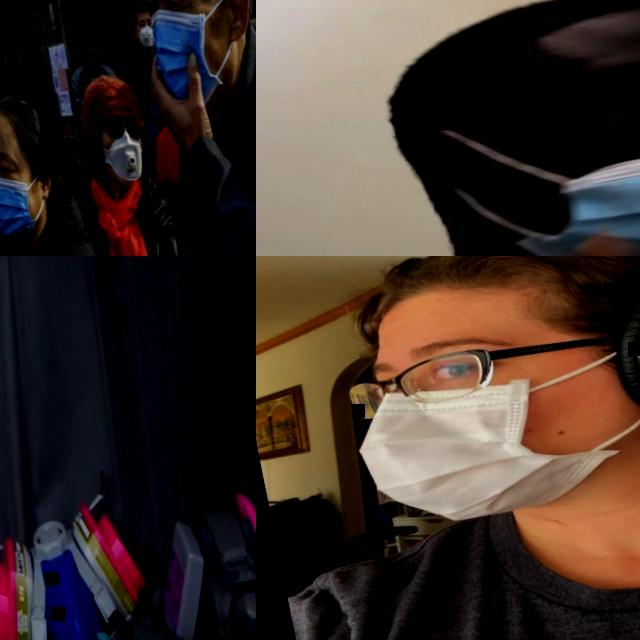mask: (346, 345, 640, 546), (401, 72, 640, 256), (0, 491, 163, 640), (138, 479, 256, 640), (144, 2, 228, 120), (0, 168, 41, 251), (102, 130, 150, 192), (136, 25, 158, 52), (86, 52, 103, 71)
no_helmet: (363, 256, 640, 366), (385, 0, 640, 94), (74, 70, 144, 136), (0, 92, 51, 165), (80, 22, 104, 46), (128, 0, 150, 17), (250, 14, 256, 55)
no_vest: (294, 447, 640, 640), (127, 58, 256, 256), (64, 173, 214, 256), (130, 62, 162, 111)
person: (256, 256, 640, 640), (256, 0, 640, 256), (0, 40, 7, 105)
